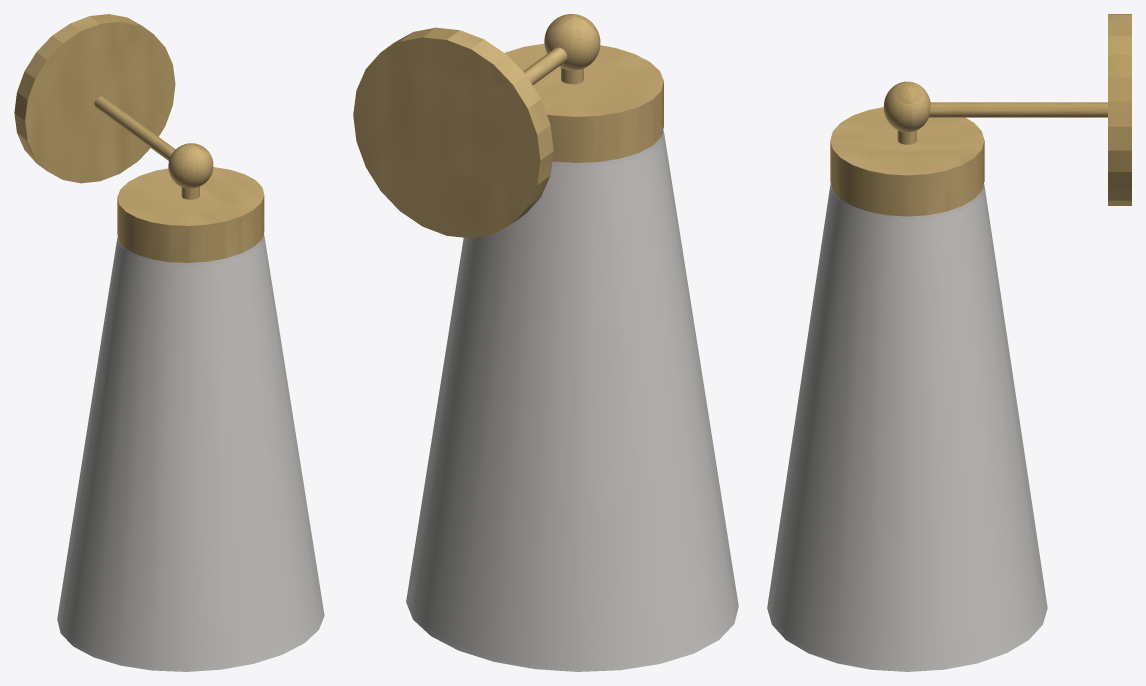
The model's file is light-8.glb.
The picture shows the model from 3 angles, left to right: view 1: azimuth 30°, elevation 25°; view 2: azimuth 150°, elevation 25°; view 3: azimuth 270°, elevation 25°; orthographic projection. The views are drawn at different scales.
Visible parts, largest first — view 1: 3DGeom-2; view 2: 3DGeom-2; view 3: 3DGeom-2.
Boxes of the visible parts, x1,y1,x2,y2 form: 3DGeom-2: (14,14,324,671); 3DGeom-2: (353,14,738,671); 3DGeom-2: (767,14,1131,671).
Bounding box in the file's own units: 0.127 × 0.2715 × 0.1533.
2 materials, 1 textured.
